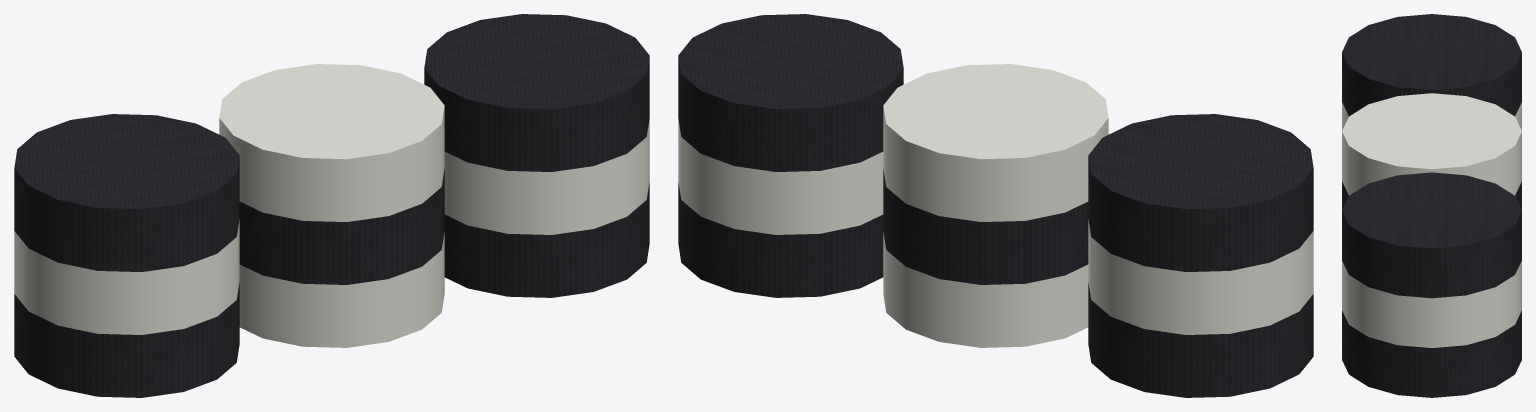
File: obj-prefab-tyrewall.glb
3 views of the same model, side by side, from view 1: azimuth 30°, elevation 25°; view 2: azimuth 150°, elevation 25°; view 3: azimuth 270°, elevation 25° (orthographic). The views are drawn at different scales.
Visible parts, largest first — view 1: prefab_tyrewall; view 2: prefab_tyrewall; view 3: prefab_tyrewall.
Boxes of the visible parts, left/top/right/bottom form: prefab_tyrewall: left=14, top=14, right=649, bottom=397; prefab_tyrewall: left=678, top=14, right=1313, bottom=397; prefab_tyrewall: left=1342, top=14, right=1521, bottom=397.
Size of the model in its own units: 2.22 by 0.66 by 0.72.
5 materials, 1 textured.
